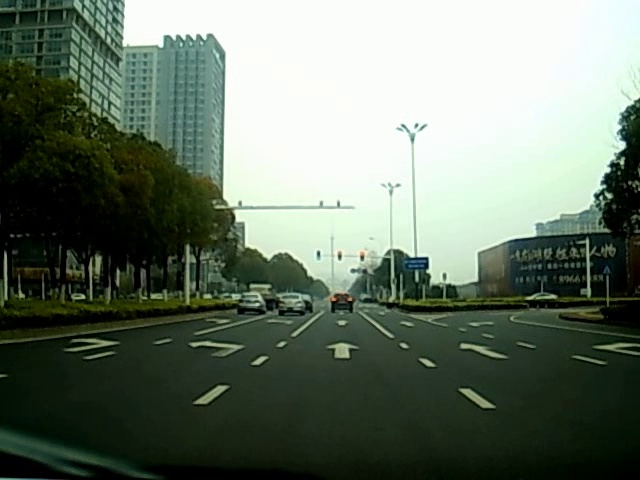Traffic_Light_stop: (336, 250, 343, 261), (358, 250, 364, 262)
